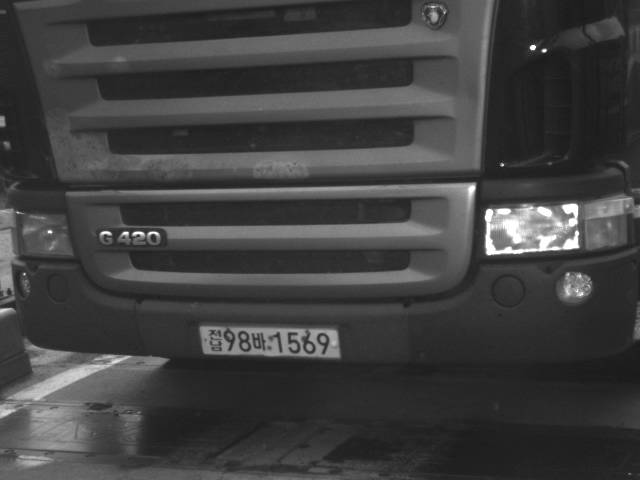car: (1, 1, 639, 370)
plate: (194, 323, 345, 361)
